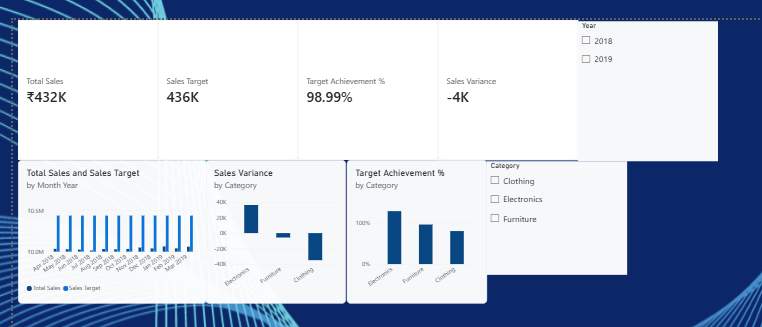

The page's visual inventory and layout, read from the dashboard file:
{"tool":"powerbi","page":{"name":"Target & Performance","canvas":[1920,1080],"ordinal":5},"visuals":[{"type":"cardVisual","fields":{"Data":["DimCategory.Total Sales"]},"box":[10,0,280,280],"z":0},{"type":"cardVisual","fields":{"Data":["DimCategory.Sales Target"]},"box":[289.7,0,280,280],"z":1},{"type":"cardVisual","fields":{"Data":["DimCategory.Target Achievement %"]},"box":[570.1,0,280,280],"z":2},{"type":"cardVisual","fields":{"Data":["DimCategory.Sales Variance"]},"box":[850.6,0,280.5,280.5],"z":3},{"type":"clusteredColumnChart","fields":{"Category":["DimCategory.Category"],"Y":["DimCategory.Sales Variance"]},"box":[386.2,280.5,280.5,287.4],"z":4},{"type":"clusteredColumnChart","fields":{"Category":["DimCategory.Category"],"Y":["DimCategory.Target Achievement %"]},"box":[666.7,280.5,280.5,287.4],"z":5},{"type":"slicer","fields":{"Values":["DimCategory.Category"]},"box":[947.1,282.8,280.5,227.6],"z":7},{"type":"slicer","fields":{"Values":["DimDate.Year"]},"box":[1131.1,2.3,280,280],"z":9},{"type":"lineClusteredColumnComboChart","fields":{"Category":["DimDate.Month Year"],"Y":["DimCategory.Total Sales","DimCategory.Sales Target"]},"box":[9.2,280.5,377,287.4],"z":10}]}

Visuals, with their boxes on the page's 1920x1080 design canvas (x1, y1, x2, y2). These are canvas units, not pixel positions in the 762x327 screenshot, which may show the page scaled, cropped or inside an application window:
cardVisual - DimCategory.Total Sales: 10/0/290/280
cardVisual - DimCategory.Sales Target: 290/0/570/280
cardVisual - DimCategory.Target Achievement %: 570/0/850/280
cardVisual - DimCategory.Sales Variance: 851/0/1131/280
clusteredColumnChart - DimCategory.Category x DimCategory.Sales Variance: 386/280/667/568
clusteredColumnChart - DimCategory.Category x DimCategory.Target Achievement %: 667/280/947/568
slicer - DimCategory.Category: 947/283/1228/510
slicer - DimDate.Year: 1131/2/1411/282
lineClusteredColumnComboChart - DimDate.Month Year x DimCategory.Total Sales: 9/280/386/568
